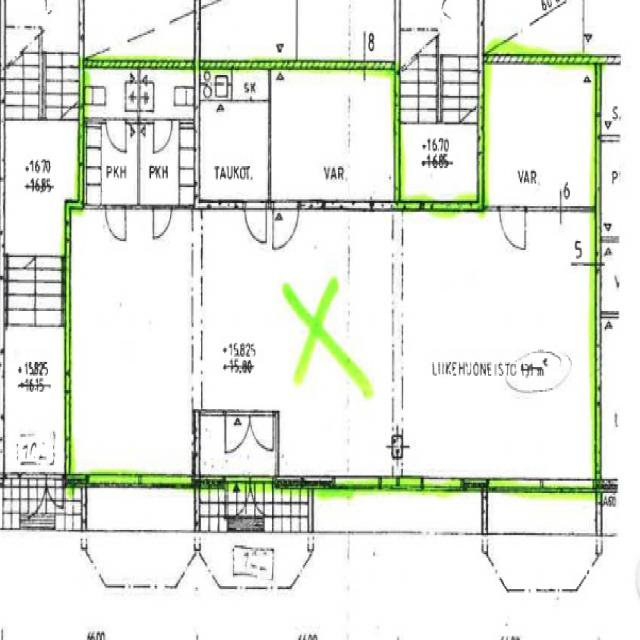door: (225, 474, 249, 526), (249, 474, 272, 526), (500, 206, 526, 252), (274, 202, 298, 250), (226, 410, 250, 454), (250, 410, 274, 454), (244, 202, 266, 245), (153, 204, 172, 240), (107, 120, 126, 155), (106, 205, 124, 241), (154, 120, 172, 153)
